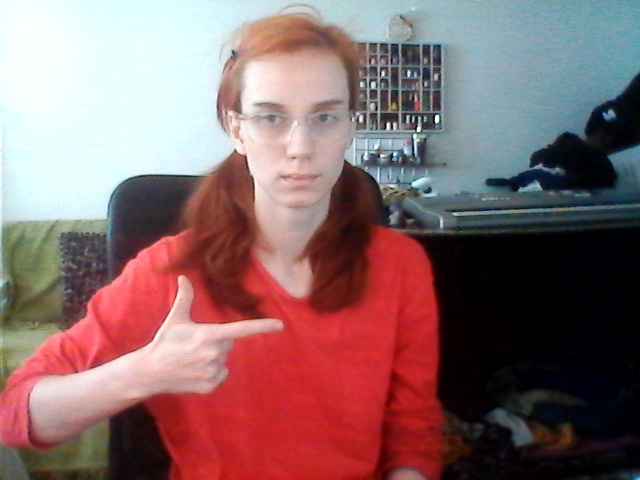dva_dve: (153, 273, 289, 403)
